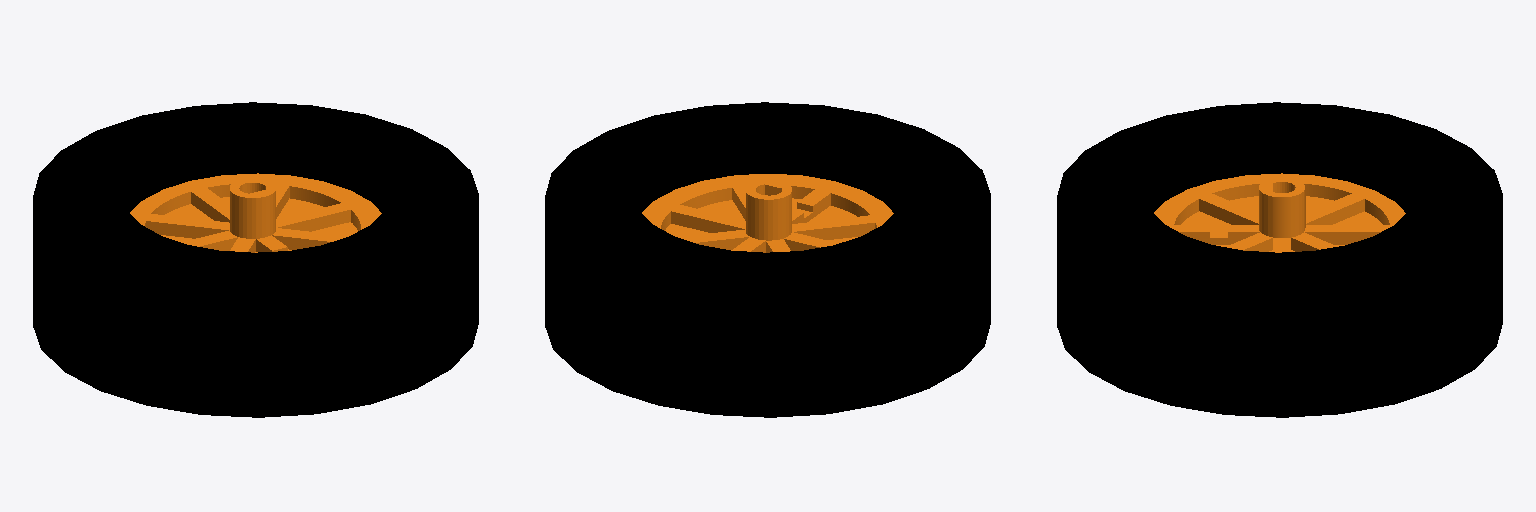
File: FullWheel.obj
3 renders of one model, left to right at view 1: azimuth 30°, elevation 25°; view 2: azimuth 150°, elevation 25°; view 3: azimuth 270°, elevation 25°, orthographic.
Parts seen in each view (by area): view 1: Mesh1 Model; view 2: Mesh1 Model; view 3: Mesh1 Model.
Part boxes in pixels (bbox=[...]): Mesh1 Model: bbox=[33, 102, 478, 417]; Mesh1 Model: bbox=[545, 102, 990, 417]; Mesh1 Model: bbox=[1057, 102, 1502, 417].
Bounding box in the file's own units: 49.54 × 16.5 × 49.54.